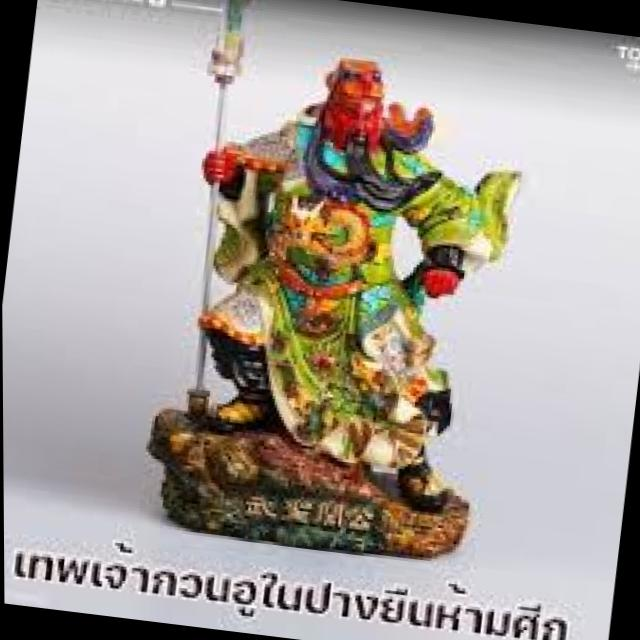Guan Yu: (169, 39, 491, 459)
